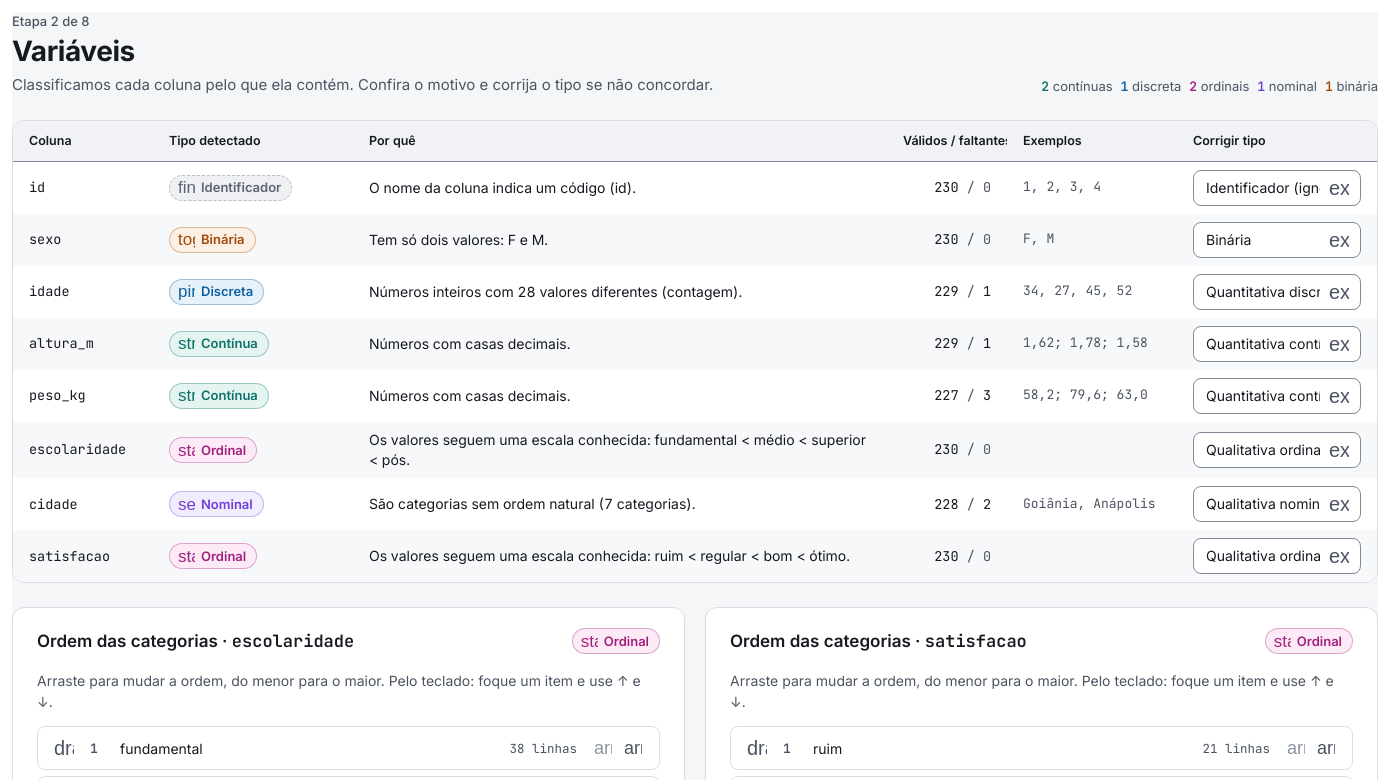
PaginaVariaveis › tipo recusado pela API mostra o erro e volta ao tipo anterior
The image size is (1390, 780).
Select "Quantitativa contínua" in the dropdown named "Tipo de cidade" in the row of "cidade" at (1277, 504), box [1193,486,1361,522]
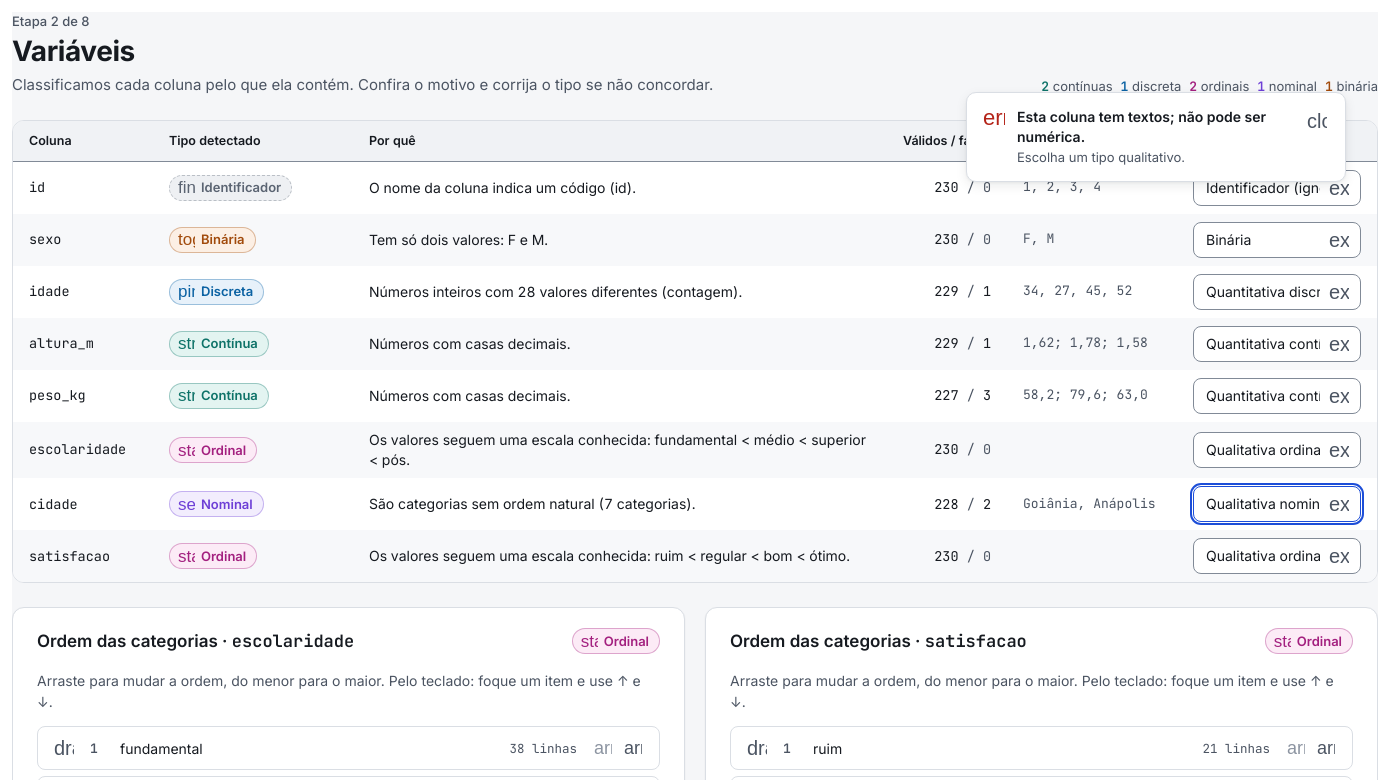
Expected: the text "Esta coluna tem textos; não pode ser numérica." is shown, [1017,107,1289,146]
